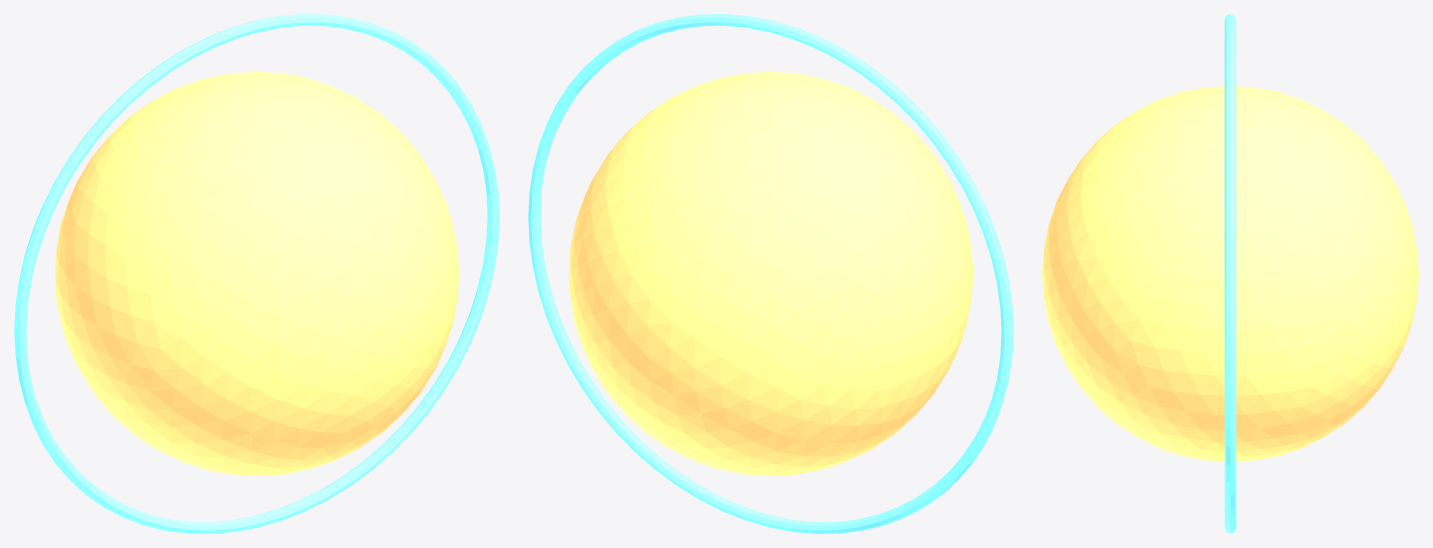
Rendered from hexad-sun.glb.
3 renders of one model, left to right at view 1: azimuth 30°, elevation 25°; view 2: azimuth 150°, elevation 25°; view 3: azimuth 270°, elevation 25°, orthographic. The views are drawn at different scales.
Parts seen in each view (by area): view 1: Information_Sun, Energy_Ring; view 2: Information_Sun, Energy_Ring; view 3: Information_Sun, Energy_Ring.
Part boxes in pixels (x1,y1,x2,y2): Information_Sun: [54, 71, 459, 476]; Energy_Ring: [14, 14, 499, 533]; Information_Sun: [568, 71, 973, 476]; Energy_Ring: [528, 14, 1013, 533]; Information_Sun: [1042, 86, 1418, 461]; Energy_Ring: [1224, 14, 1236, 533].
Bounding box in the file's own units: 2.21 × 2.21 × 1.6.
